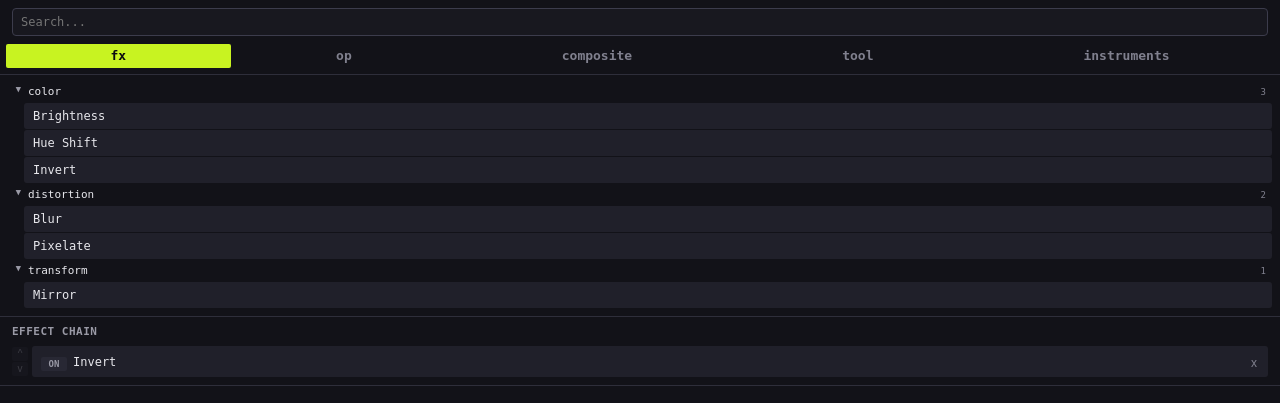
Test: UX Combos — Group 7: Search + Category + Effect Add › 27. Search no match → Clear → All visible, rack unchanged
Note: Search for nonexistent term
Type "zzzznonexistent999" into the field with class "effect-search__input" at (640, 22), box [12, 8, 1268, 36]
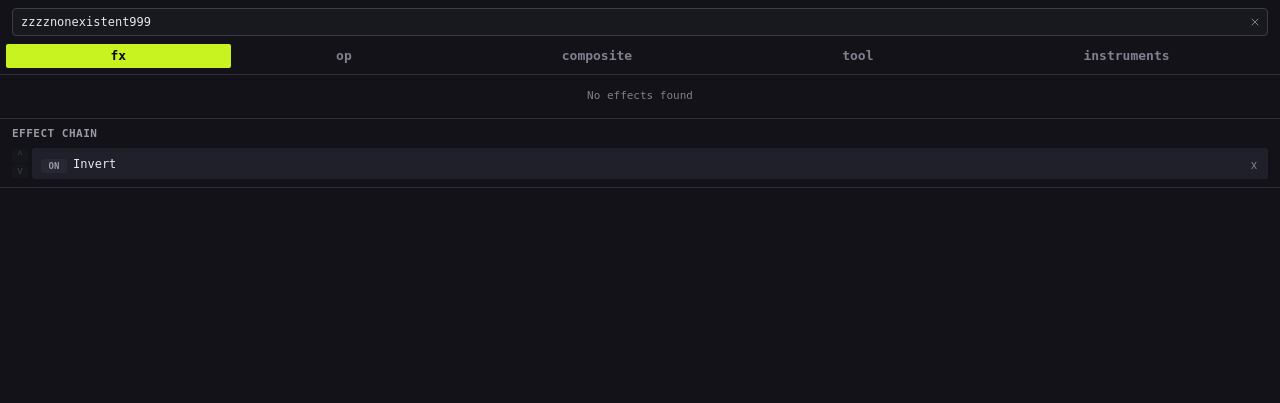
Result: the text "No effects found" is shown at [587, 89, 693, 102]
Result: no buttons with class "effect-browser__item" are shown
Note: Clear search
Clear the field with class "effect-search__input" at (640, 22), box [12, 8, 1268, 36]
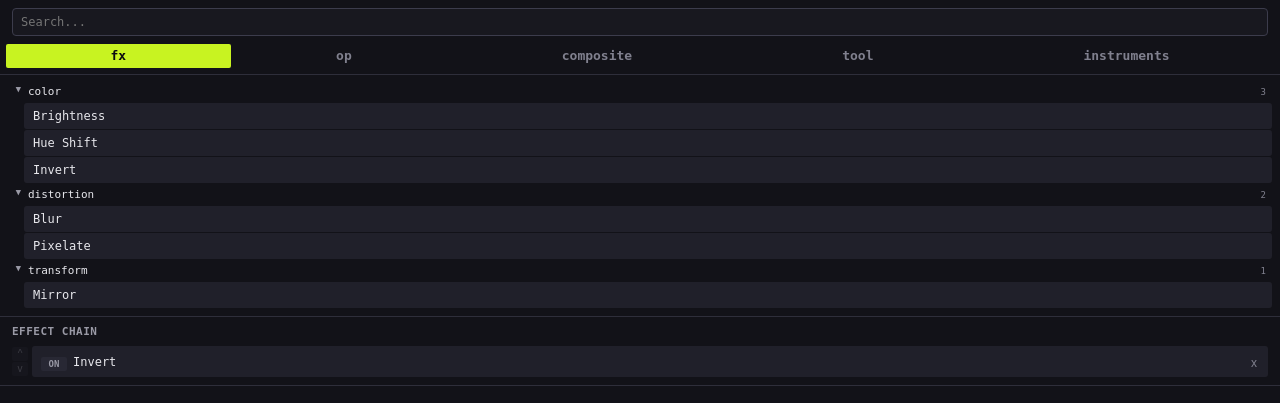
Expected: the number of elements with class "effect-rack__item" is 1, [12, 346, 1268, 377]
Result: the number of buttons with class "effect-browser__item" is 6 at [24, 103, 1272, 129]; [24, 130, 1272, 156]; [24, 157, 1272, 183]; [24, 206, 1272, 232]; [24, 233, 1272, 259]; [24, 282, 1272, 308]
